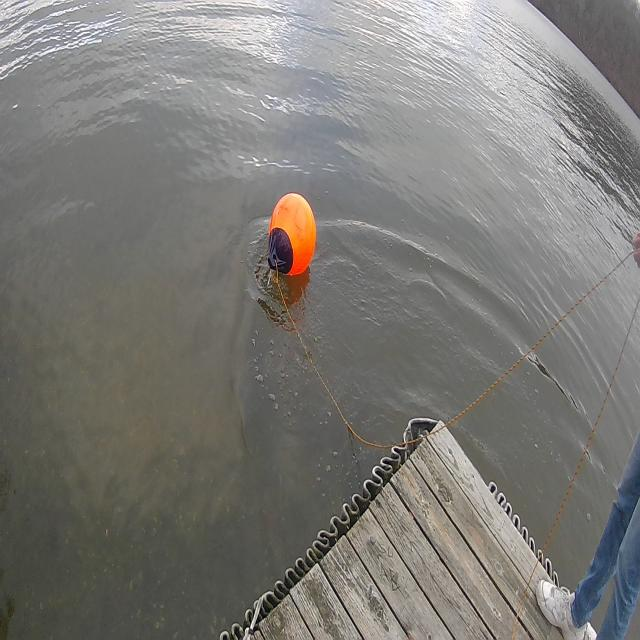Buoy: (265, 188, 320, 284)
